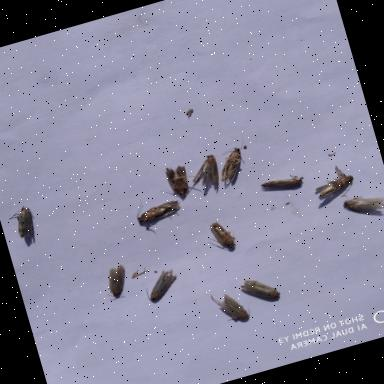pbw: (132, 189, 186, 238), (210, 136, 254, 184), (154, 160, 198, 203), (210, 285, 252, 328), (142, 266, 184, 303), (239, 271, 282, 307), (312, 172, 359, 204), (187, 152, 224, 192), (341, 188, 384, 220), (203, 215, 238, 253), (99, 263, 133, 300), (6, 204, 40, 240), (258, 170, 304, 196)
